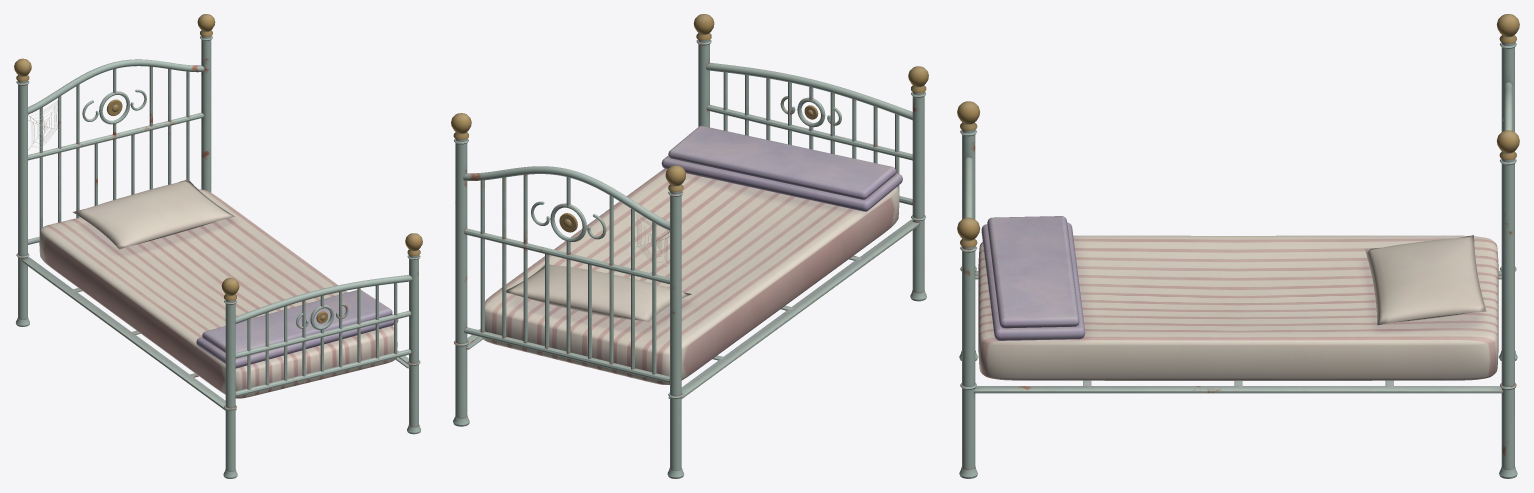
Rendered from old-iron-bed.glb.
3 views of the same model, side by side, from view 1: azimuth 30°, elevation 25°; view 2: azimuth 150°, elevation 25°; view 3: azimuth 270°, elevation 25° (orthographic). The views are drawn at different scales.
Parts seen in each view (by area): view 1: old-iron-bed_body, old-iron-bed_web; view 2: old-iron-bed_body, old-iron-bed_web; view 3: old-iron-bed_body.
Boxes of the visible parts, bbox=[...] form: old-iron-bed_body: bbox=[14, 14, 422, 478]; old-iron-bed_web: bbox=[28, 98, 58, 149]; old-iron-bed_body: bbox=[451, 14, 928, 478]; old-iron-bed_web: bbox=[635, 211, 669, 269]; old-iron-bed_body: bbox=[957, 14, 1519, 478].
Bounding box in the file's own units: 1.08 × 1.38 × 2.04.
3 materials, 1 textured.
